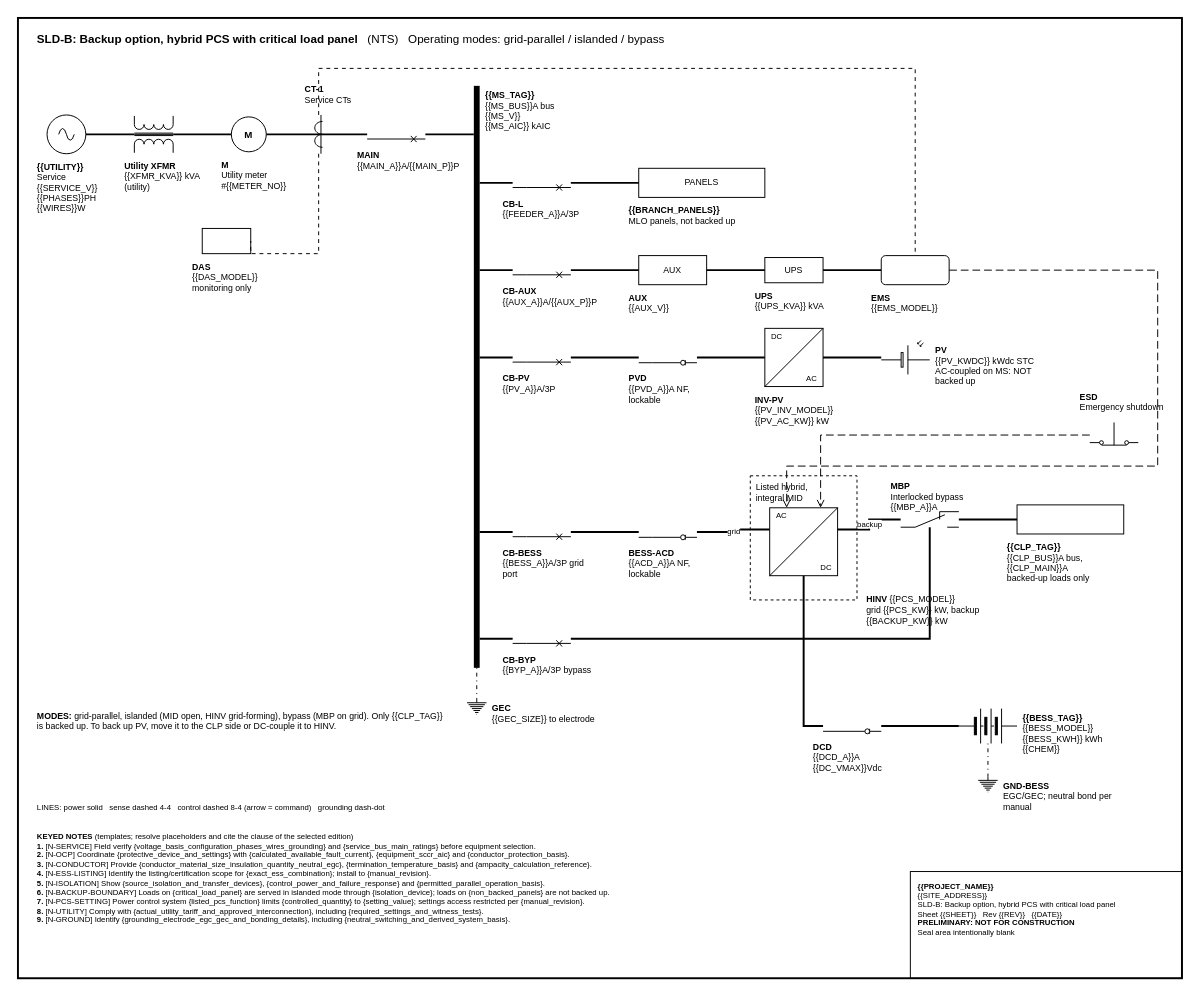
Image size: 1199x995. Some labels were removed from this diagram. Here are the shapes that lost their labels. From the top down, the centre of each, then its label:
point 226,240: DAS
point 914,270: EMS
point 1070,519: CLP
